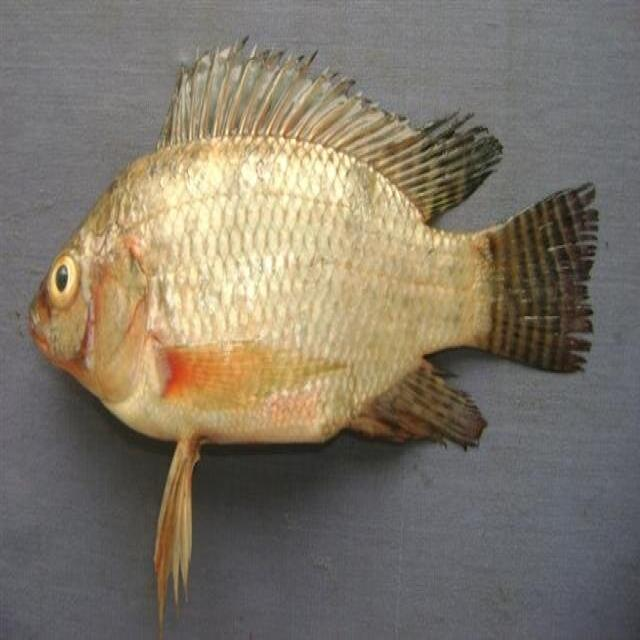ikan: (25, 29, 617, 627)
